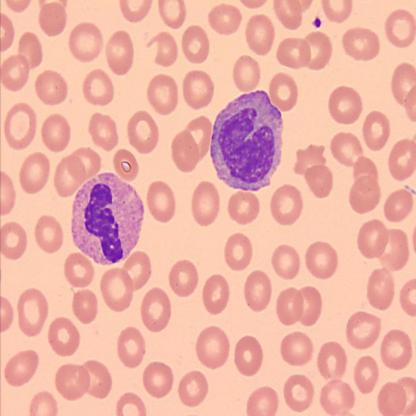Monocyte: (208, 88, 285, 192)
